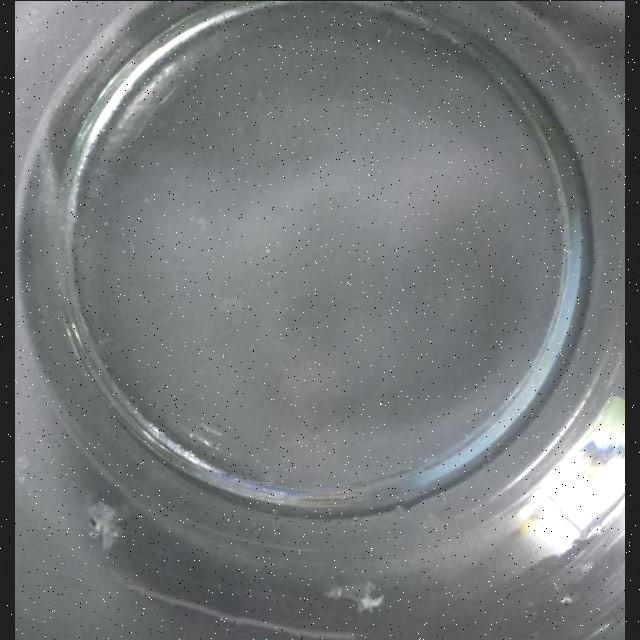Fibre: (86, 498, 124, 548), (348, 580, 386, 614)
